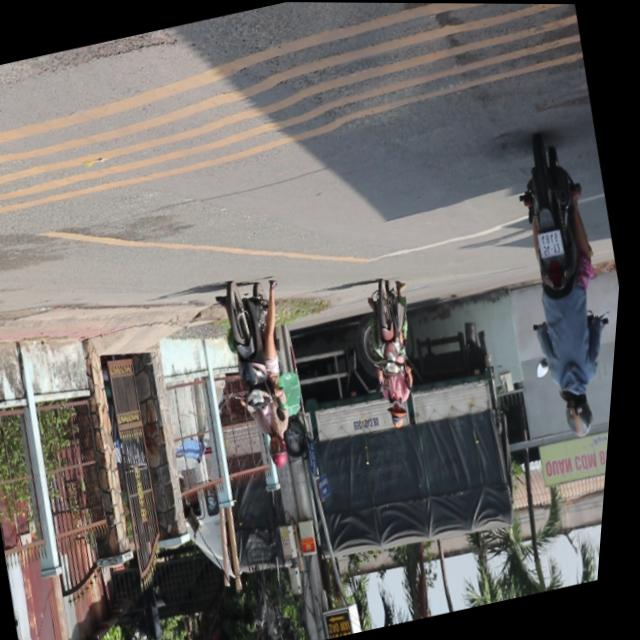helmet: (563, 385, 604, 439), (269, 430, 298, 470)
licenseplate: (488, 131, 633, 444), (208, 269, 323, 478)
nohelmet: (539, 229, 569, 261)
